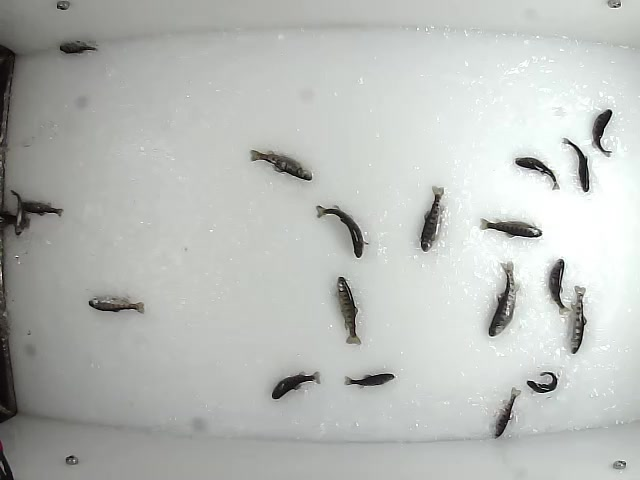fish: (313, 201, 371, 259), (486, 259, 522, 339), (248, 149, 317, 184), (334, 274, 364, 346), (489, 384, 524, 440), (559, 136, 591, 194), (419, 184, 446, 251), (268, 369, 322, 401), (513, 156, 561, 192), (476, 217, 544, 240), (570, 285, 590, 353), (589, 109, 614, 159), (87, 293, 146, 313), (342, 369, 397, 390), (15, 199, 65, 219), (7, 189, 26, 236), (522, 371, 559, 394), (58, 39, 100, 56)
